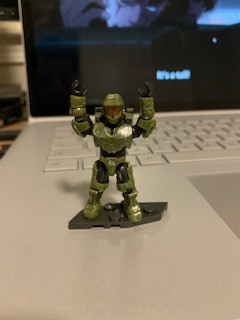chief: (67, 77, 157, 225)
spartan: (65, 75, 155, 223)
up: (66, 79, 156, 155)
